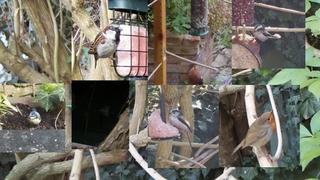blue tit: (27, 107, 41, 130)
long tailed tit: (169, 109, 195, 159), (250, 24, 281, 45)
robin: (230, 109, 276, 159)
sparrow: (87, 24, 124, 69)
